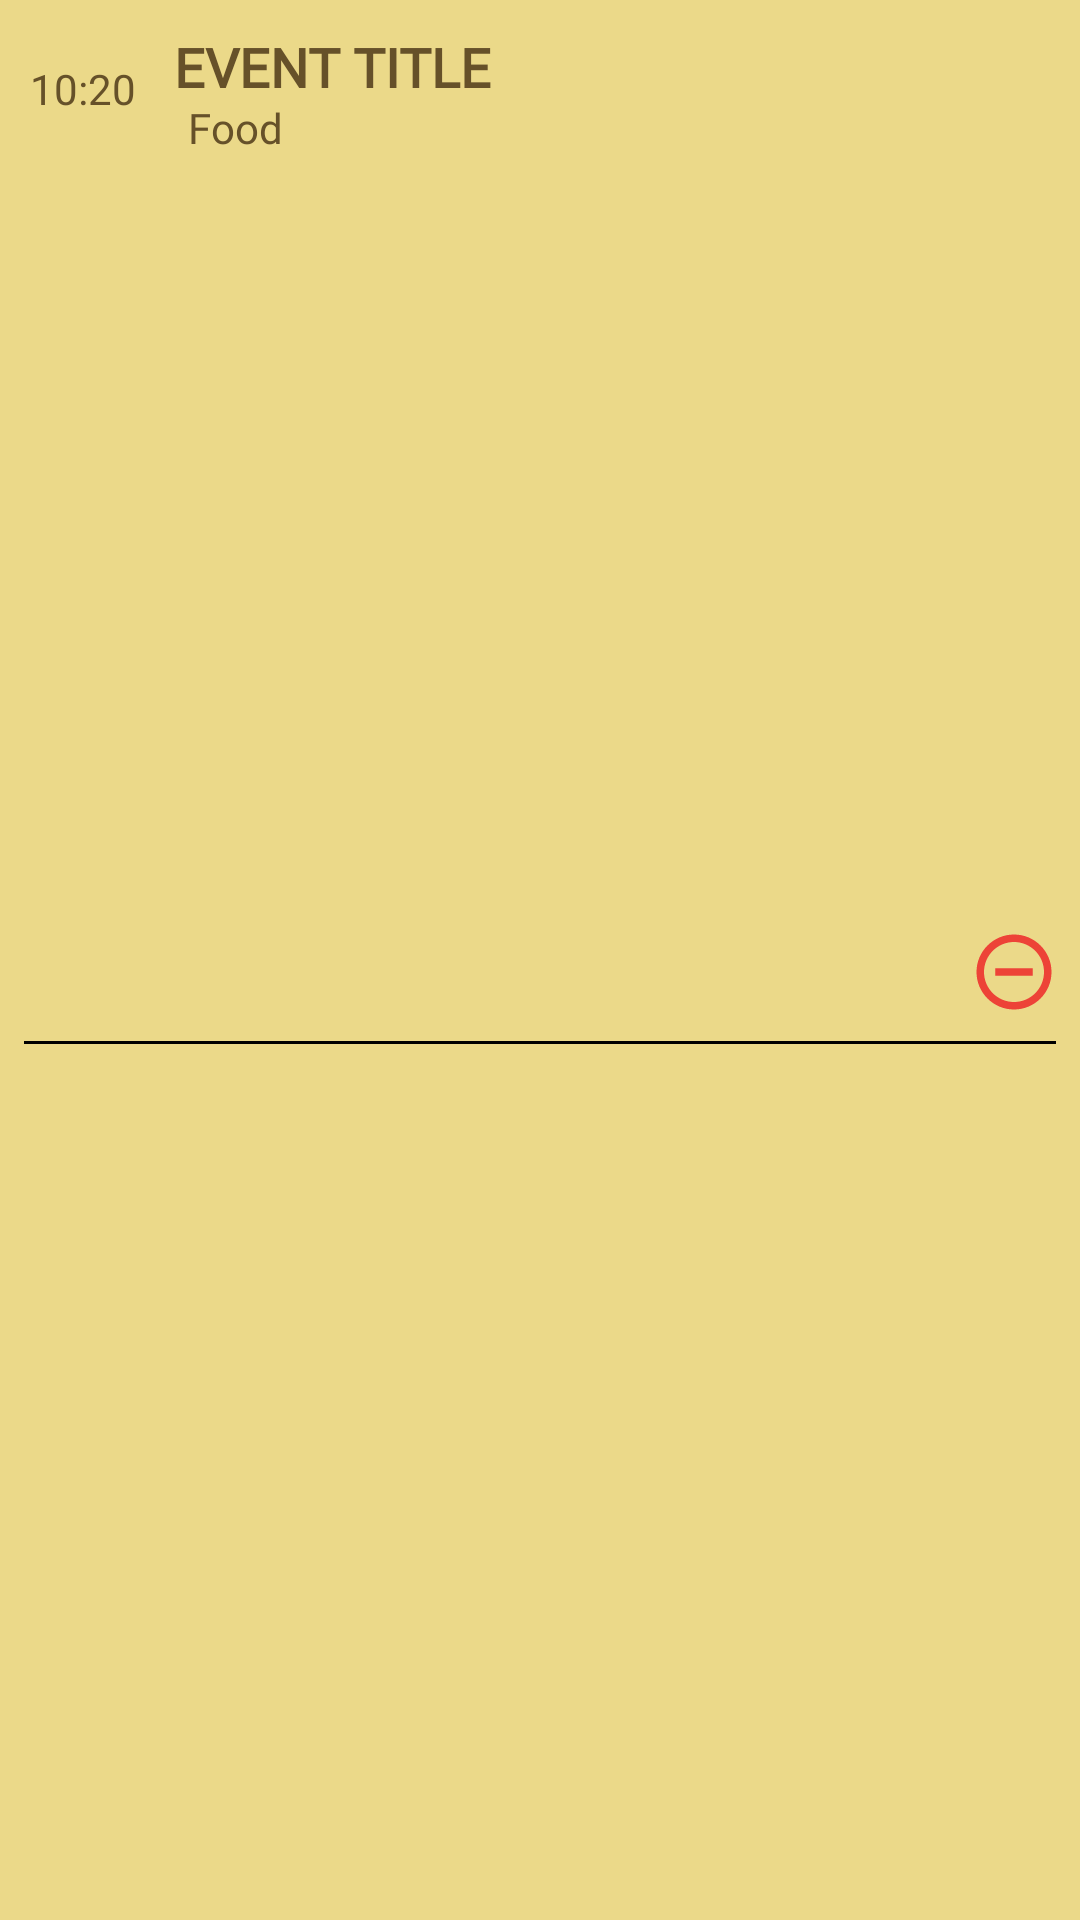

Where icons sit on this 1080px x 1920px app screen, as (x1, y1, x2, y2):
remove circle: (976, 934, 1052, 1010)
